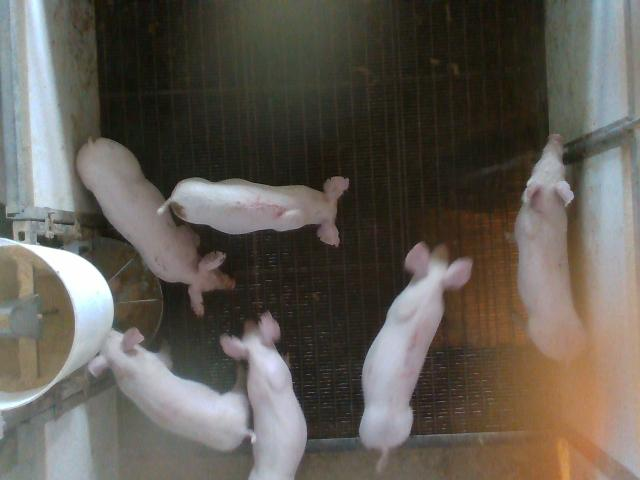pig-3: (359, 243, 472, 472)
pig-4: (89, 328, 252, 451)
pig-5: (159, 176, 349, 246)
